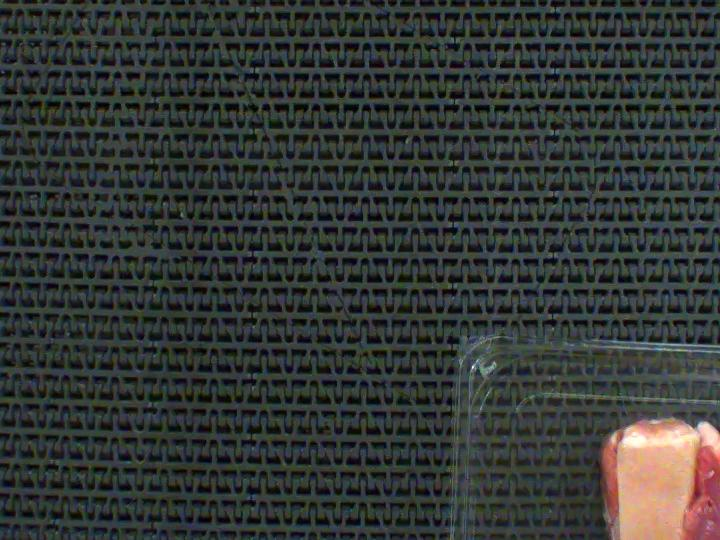twisted-meat: (576, 428, 720, 540)
